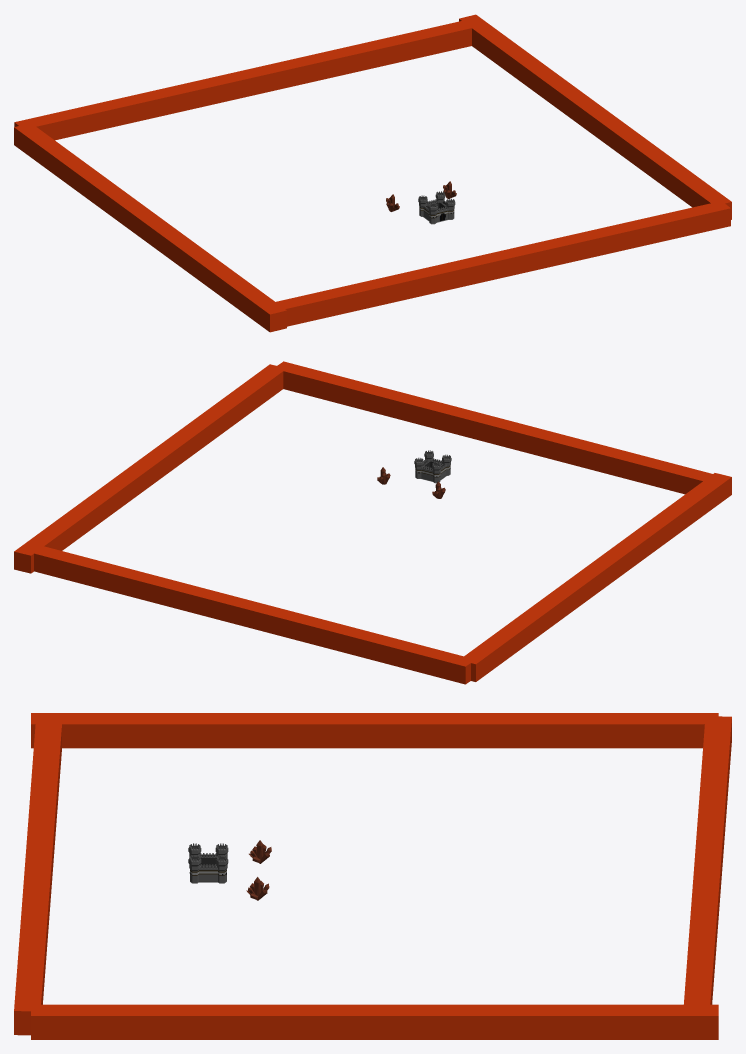
Rendered from TitleScreenBackground.obj.
3 views of the same model, one above another, from view 1: azimuth 30°, elevation 25°; view 2: azimuth 150°, elevation 25°; view 3: azimuth 270°, elevation 25° (orthographic). The views are drawn at different scales.
Visible parts, largest first — view 1: Cube.002_Cube.010, Cube.001_Cube.009, Cube.006_Cube.008, Cube.004_Cube.006; view 2: Cube.001_Cube.009, Cube.002_Cube.010, Cube.006_Cube.008, Cube.004_Cube.006; view 3: Cube.004_Cube.006, Cube.006_Cube.008, Cube.002_Cube.010, Cube.001_Cube.009, main_Plane.001.
Part boxes in pixels (x1,y1,x2,y2): Cube.002_Cube.010: (271, 202, 730, 326); Cube.001_Cube.009: (14, 20, 474, 140); Cube.006_Cube.008: (14, 123, 286, 332); Cube.004_Cube.006: (459, 14, 731, 219); Cube.001_Cube.009: (31, 545, 470, 684); Cube.002_Cube.010: (276, 361, 717, 494); Cube.006_Cube.008: (459, 473, 731, 681); Cube.004_Cube.006: (14, 364, 286, 573); Cube.004_Cube.006: (31, 1004, 718, 1039); Cube.006_Cube.008: (31, 713, 718, 748); Cube.002_Cube.010: (14, 721, 61, 1035); Cube.001_Cube.009: (684, 716, 731, 1006); main_Plane.001: (192, 853, 224, 882).
Size of what is drawn, in the model's own units: 54 by 3.19 by 54.11.
